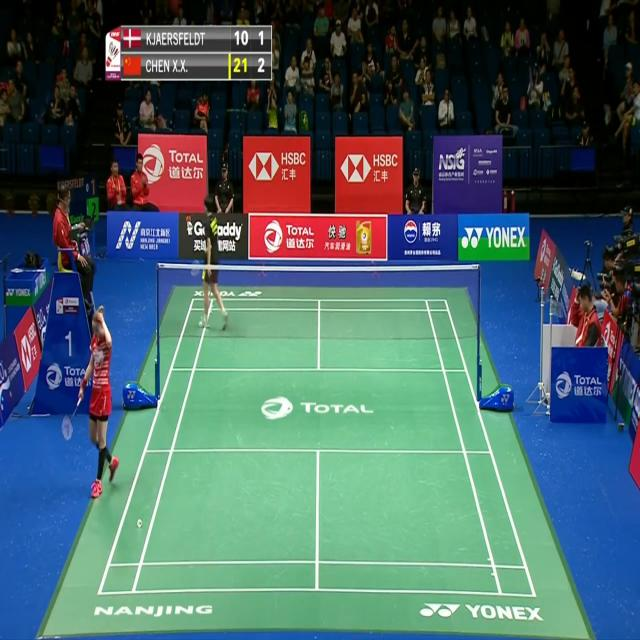Player1: (77, 309, 127, 498)
Player2: (190, 187, 234, 345)
